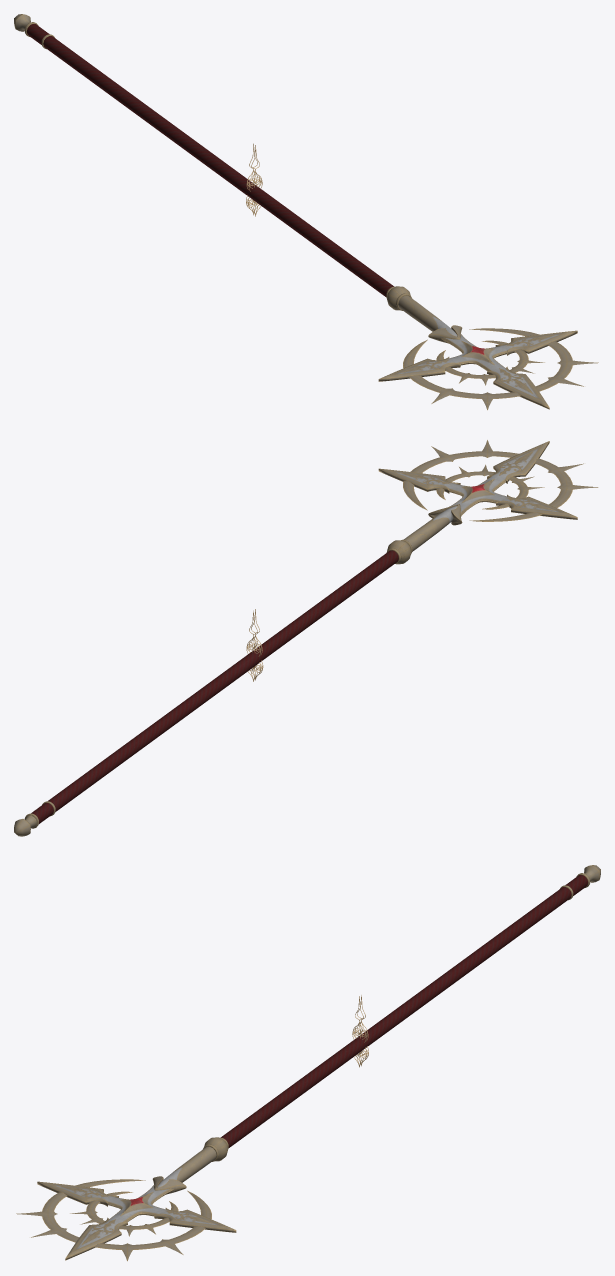
The model's file is earth-staff.glb.
3 views of the same model, one above another, from view 1: azimuth 30°, elevation 25°; view 2: azimuth 150°, elevation 25°; view 3: azimuth 330°, elevation 25° (orthographic).
Parts seen in each view (by area): view 1: HighPriestess_Staff, HighPriestess_Staff.015, HighPriestess_Staff.016, HighPriestess_Staff.001, HighPriestess_Staff.017; view 2: HighPriestess_Staff, HighPriestess_Staff.015, HighPriestess_Staff.016, HighPriestess_Staff.001, HighPriestess_Staff.017; view 3: HighPriestess_Staff, HighPriestess_Staff.015, HighPriestess_Staff.016, HighPriestess_Staff.001, HighPriestess_Staff.017.
Boxes of the visible parts, <box> form: HighPriestess_Staff: <box>26,24,393,296</box>; HighPriestess_Staff.015: <box>378,330,577,409</box>; HighPriestess_Staff.016: <box>403,328,598,410</box>; HighPriestess_Staff.001: <box>398,295,457,336</box>; HighPriestess_Staff.017: <box>436,340,544,385</box>; HighPriestess_Staff: <box>31,550,398,823</box>; HighPriestess_Staff.015: <box>378,441,577,519</box>; HighPriestess_Staff.016: <box>403,440,598,521</box>; HighPriestess_Staff.001: <box>403,505,457,551</box>; HighPriestess_Staff.017: <box>436,464,544,509</box>; HighPriestess_Staff: <box>221,875,588,1147</box>; HighPriestess_Staff.015: <box>37,1181,236,1260</box>; HighPriestess_Staff.016: <box>16,1179,211,1261</box>; HighPriestess_Staff.001: <box>157,1146,216,1187</box>; HighPriestess_Staff.017: <box>70,1191,178,1236</box>.
Size of the model in its own units: 0.4356 by 0.1495 by 2.03.
4 materials, 3 textured.
